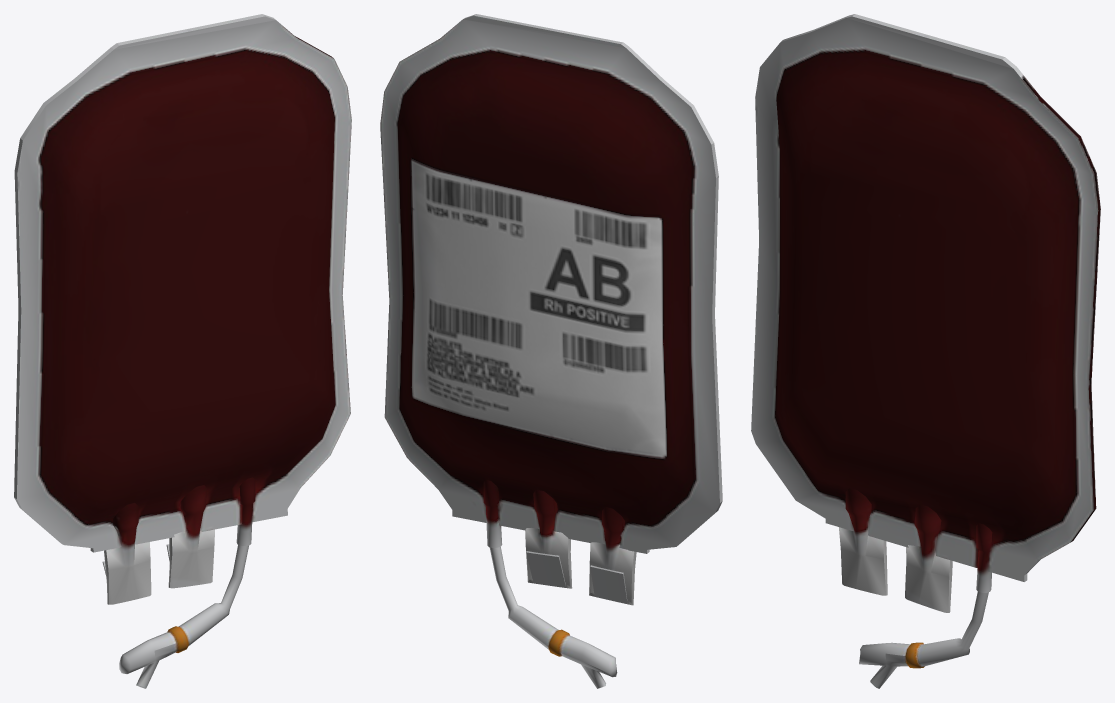
File: Blood bag 2.fbx
3 views of the same model, side by side, from view 1: azimuth 30°, elevation 25°; view 2: azimuth 150°, elevation 25°; view 3: azimuth 330°, elevation 25° (orthographic). The views are drawn at different scales.
Visible parts, largest first — view 1: Blood bag 2; view 2: Blood bag 2; view 3: Blood bag 2.
Boxes of the visible parts, left/top/right/bottom form: Blood bag 2: left=14, top=14, right=351, bottom=688; Blood bag 2: left=380, top=14, right=722, bottom=688; Blood bag 2: left=751, top=14, right=1100, bottom=688.
Bounding box in the file's own units: 14.45 × 26.67 × 2.43.
Materials: 1 (1 with a texture image).
